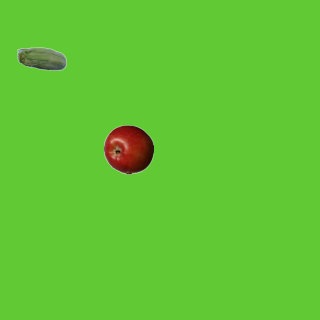Apple Braeburn: (103, 124, 153, 174)
Corn Husk: (16, 35, 66, 85)
